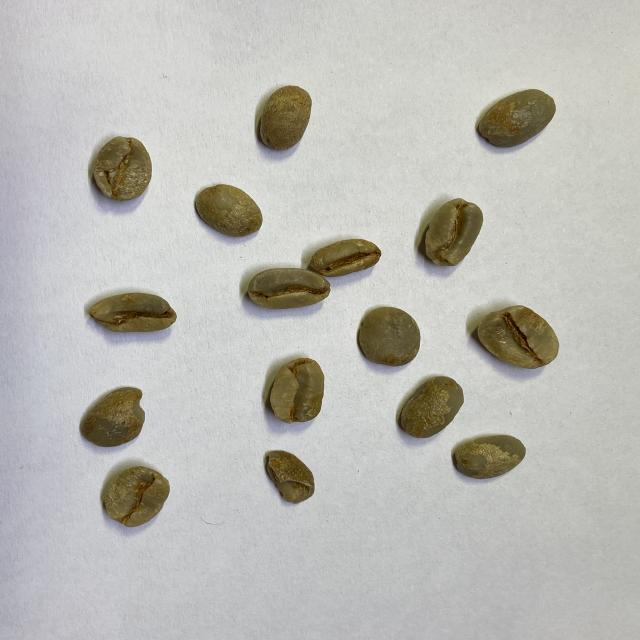bad: (422, 198, 486, 267), (81, 385, 146, 449), (90, 136, 152, 203), (89, 293, 176, 336), (269, 358, 325, 423), (264, 449, 317, 506), (309, 238, 383, 278)
good: (476, 303, 560, 370), (476, 88, 557, 150), (398, 375, 464, 438), (102, 466, 170, 527), (193, 183, 265, 238), (357, 306, 420, 368), (248, 267, 330, 314), (256, 84, 313, 151), (453, 433, 527, 480)
